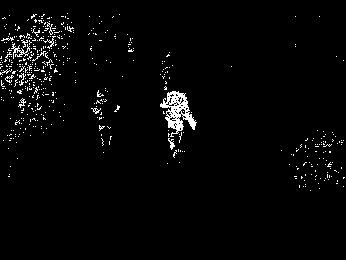person: (158, 84, 198, 158), (91, 86, 120, 147)
